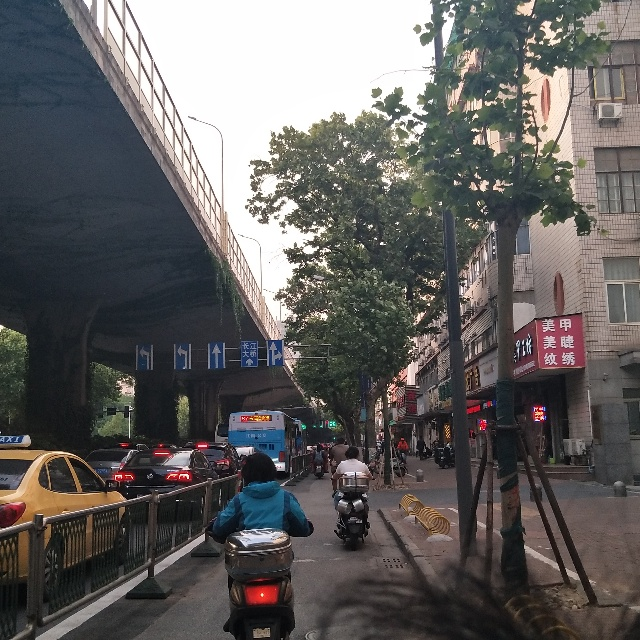left: (173, 344, 192, 370), (135, 344, 153, 370)
straight: (207, 342, 225, 369)
